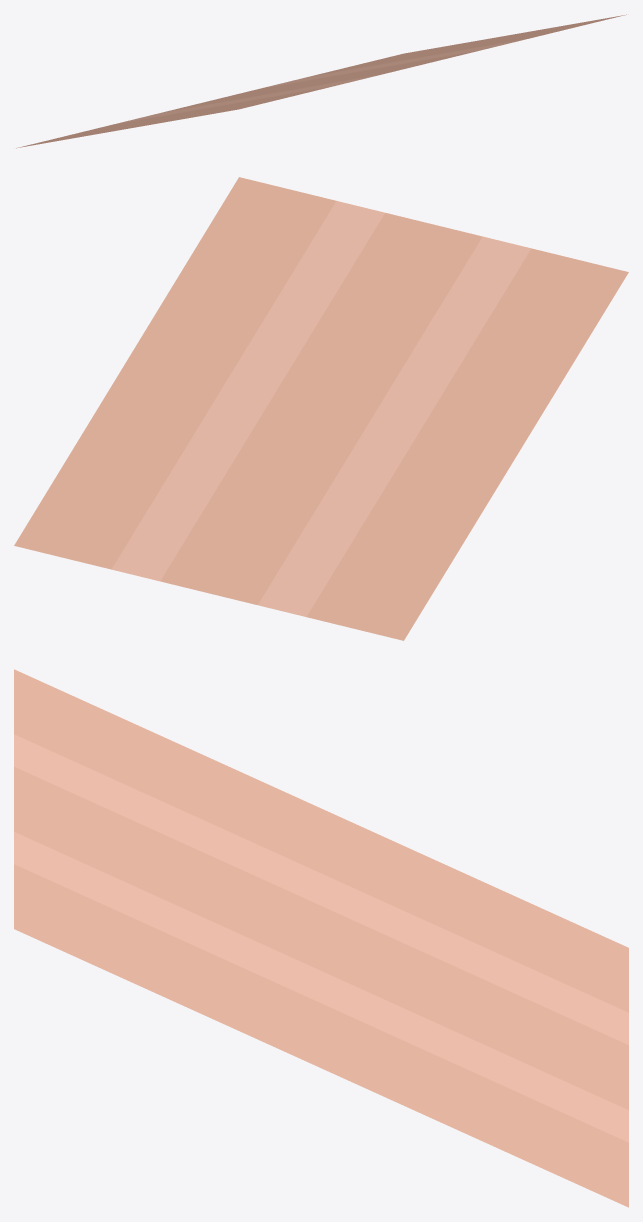
The model's file is terrainroadside-col.glb.
The picture shows the model from 3 angles, top to bottom: view 1: azimuth 30°, elevation 25°; view 2: azimuth 150°, elevation 25°; view 3: azimuth 270°, elevation 25°; orthographic projection. The views are drawn at different scales.
Visible parts, largest first — view 1: terrainroadside-col; view 2: terrainroadside-col; view 3: terrainroadside-col.
Boxes of the visible parts, x1,y1,x2,y2 form: terrainroadside-col: [16, 14, 626, 148]; terrainroadside-col: [14, 177, 628, 640]; terrainroadside-col: [14, 669, 628, 1207].
Bounding box in the file's own units: 1 × 0.5 × 1.
